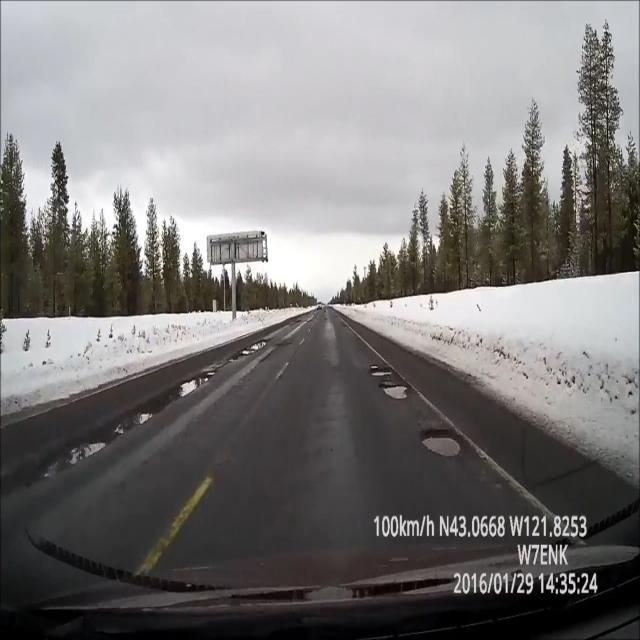Pothole: (367, 351, 415, 408), (414, 427, 468, 466), (221, 333, 269, 372)
